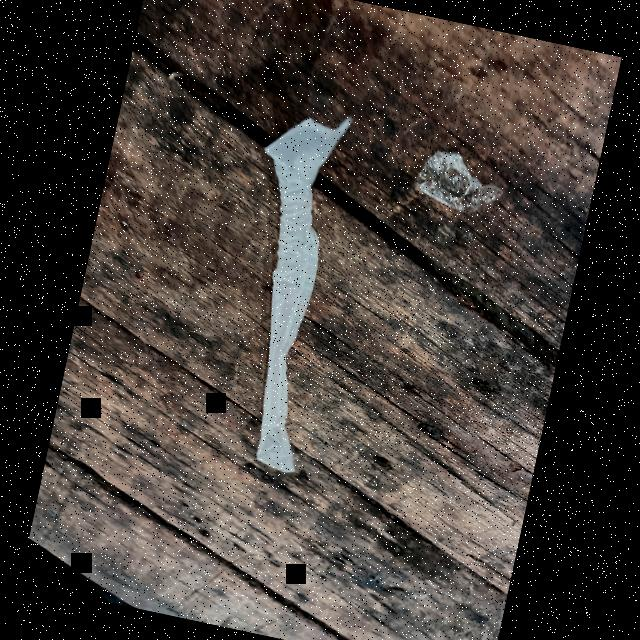scrap_plastic: (193, 96, 371, 476), (404, 140, 514, 224)
